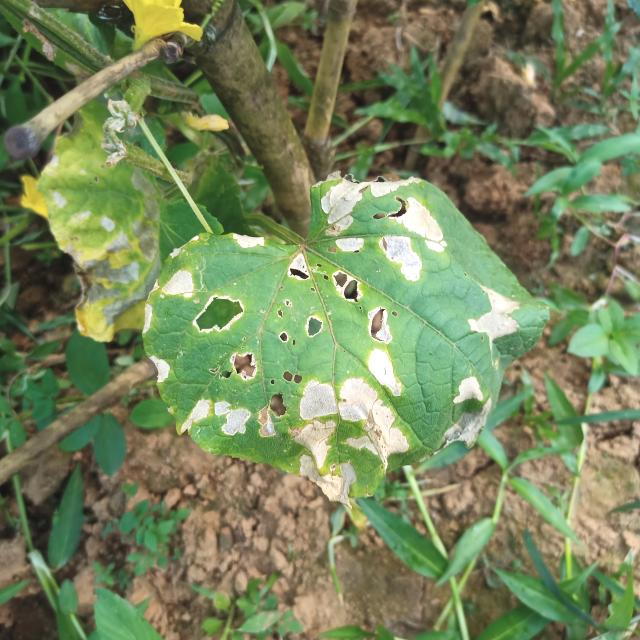disease_cucumber: (144, 187, 532, 500)
